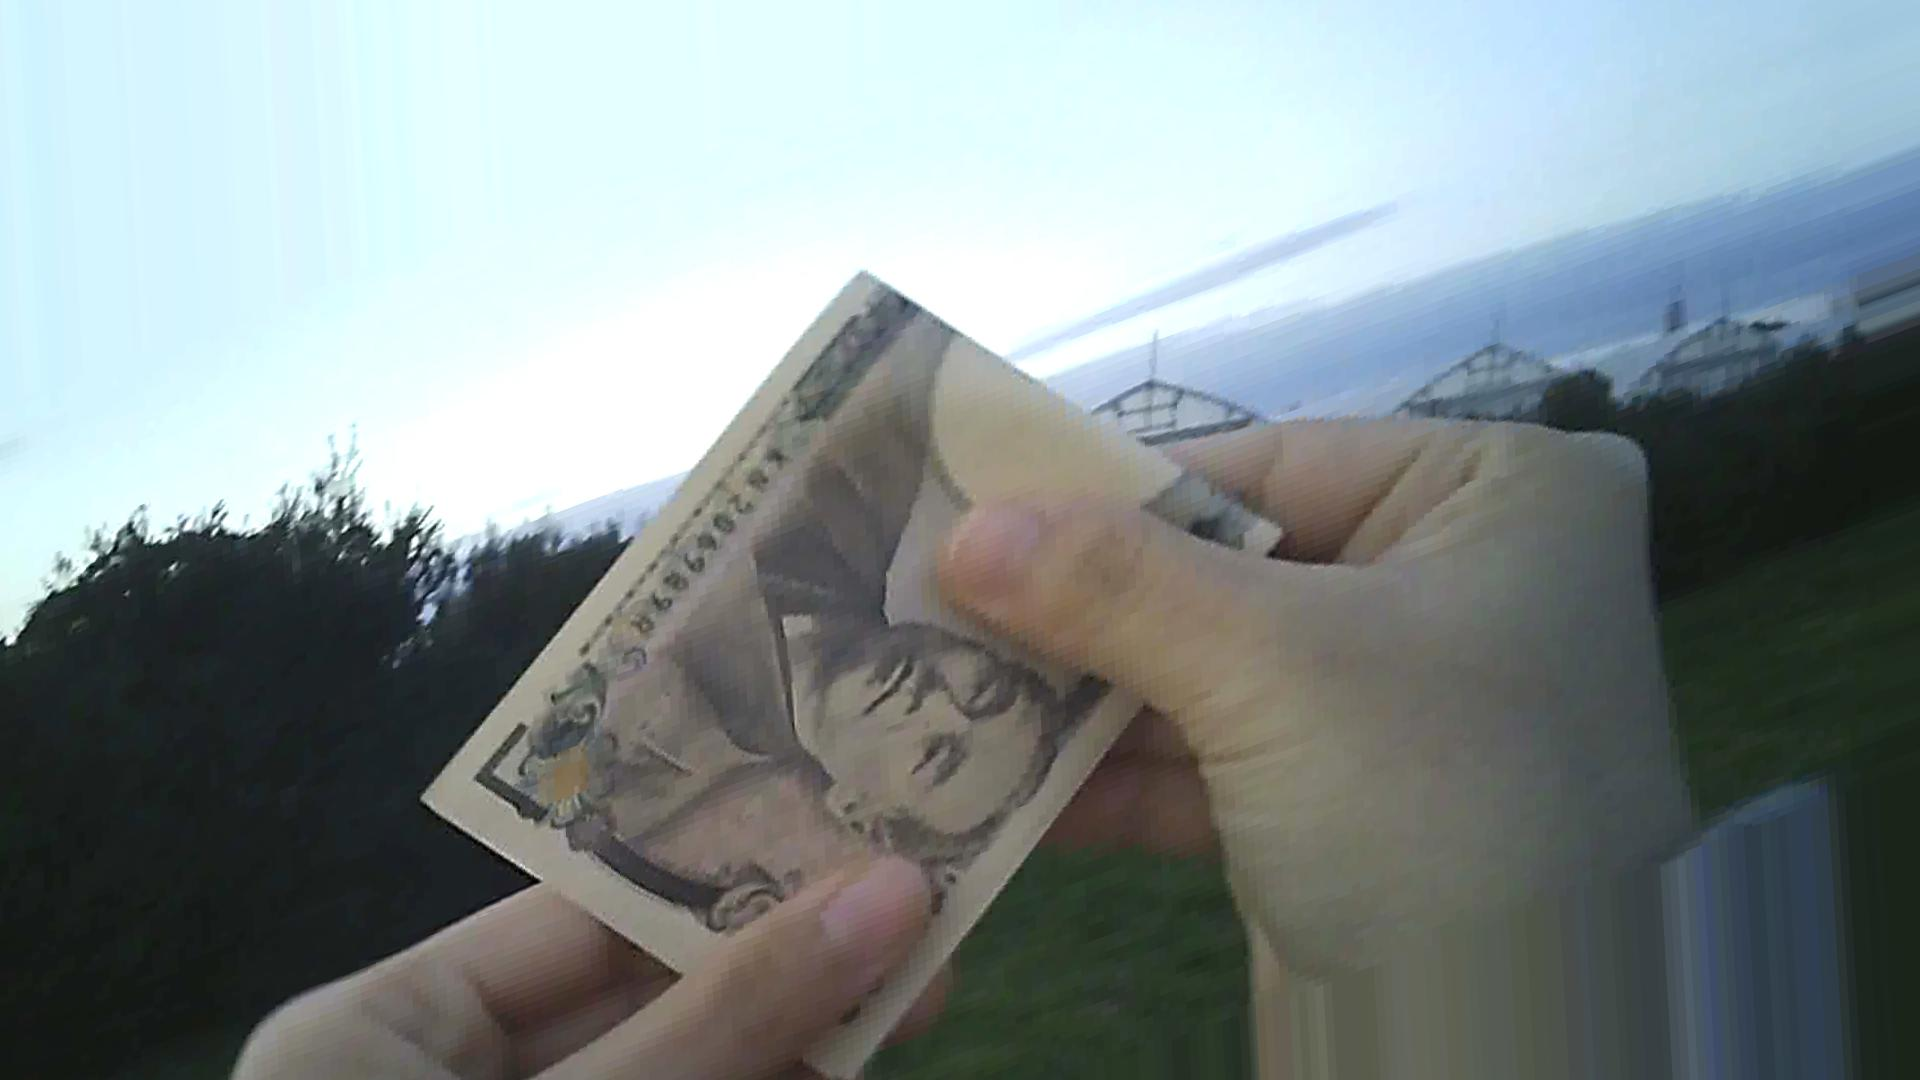10,000 Yen: (419, 276, 1232, 1054)
